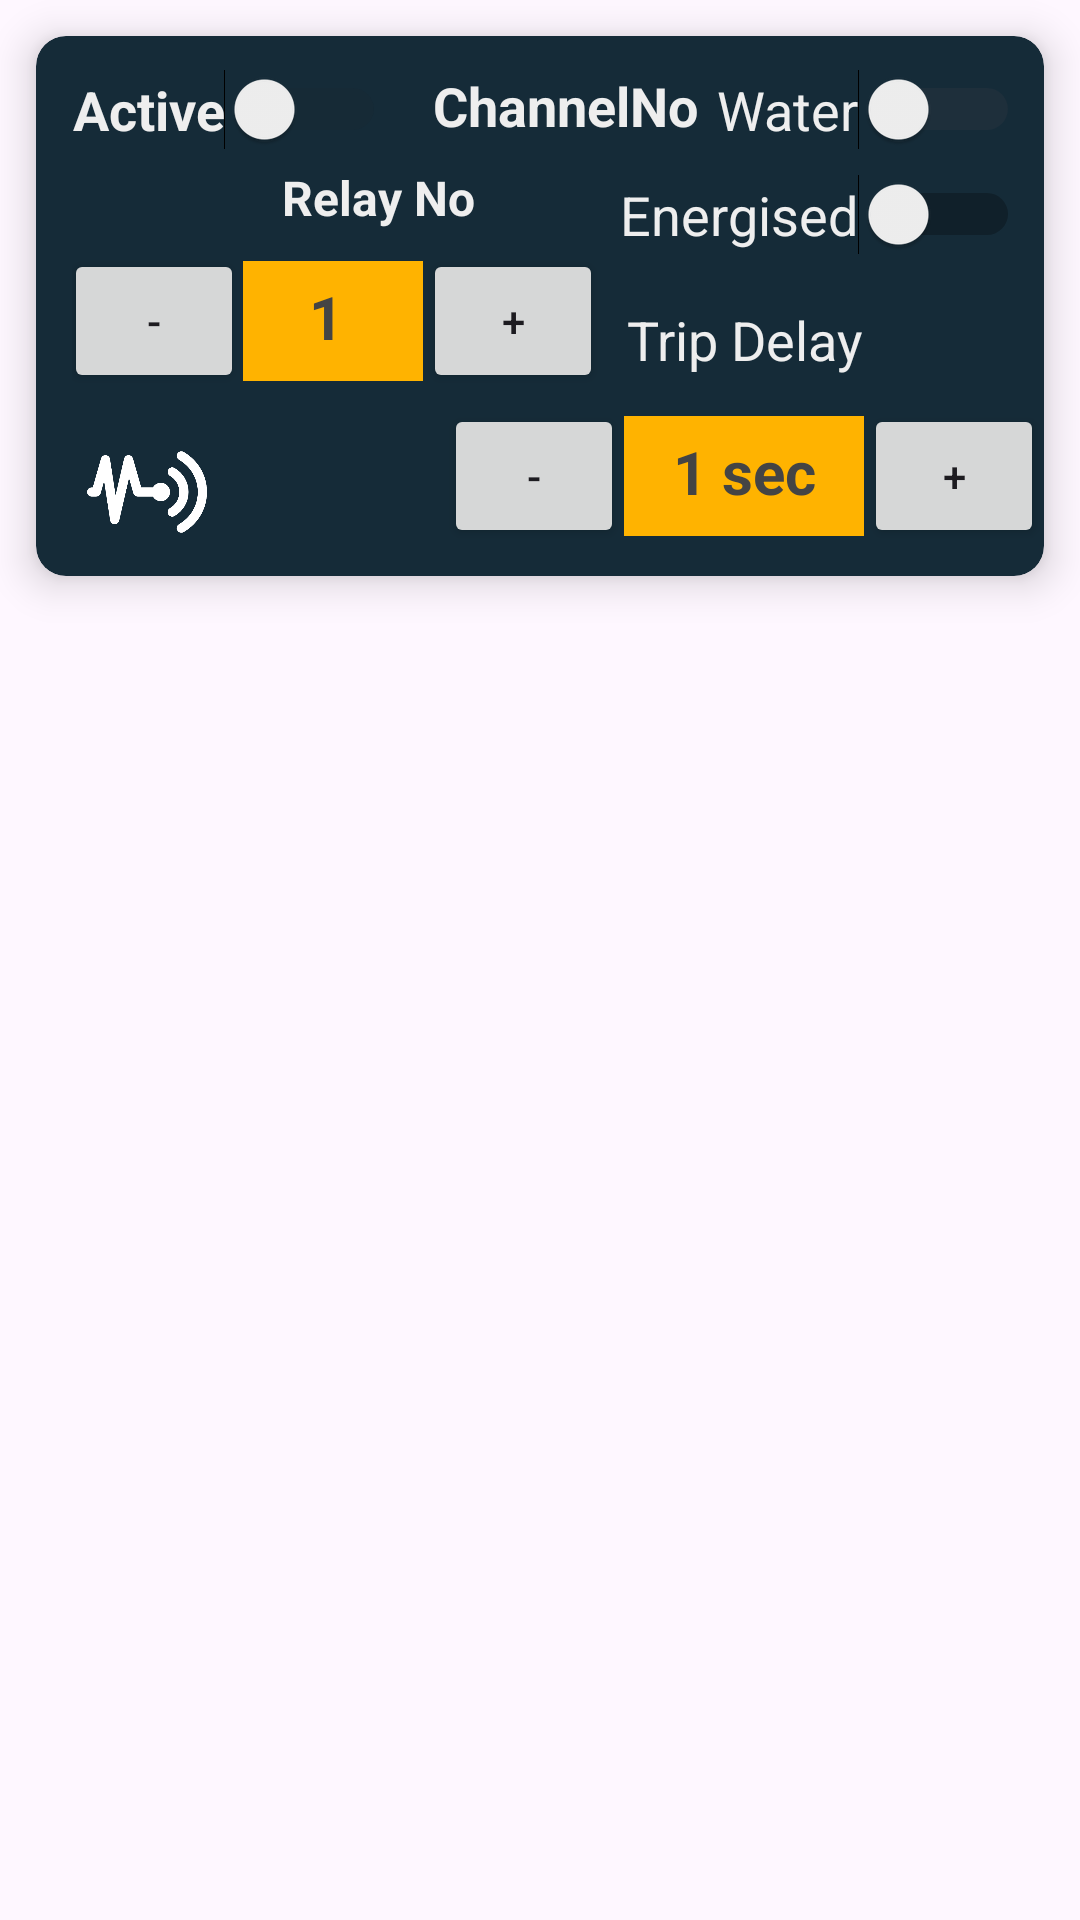

Icons on this 1080px x 1920px Android screen, each with its box as (x1, y1, x2, y2):
sensor: (87, 451, 207, 533)
